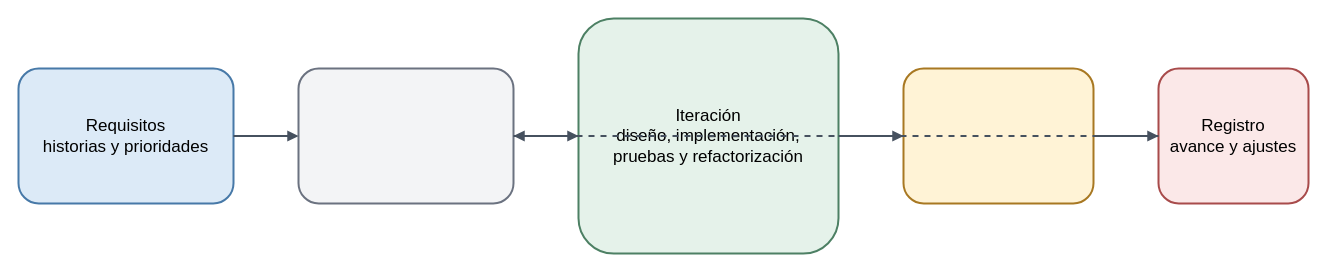
Image size: 1326x271. Some labels were removed from this diagram. Each missing label, with the centre of its shape:
Planificación tareas y estimaciones: point (405, 135)
Revisión resultados e incidencias: point (998, 135)
